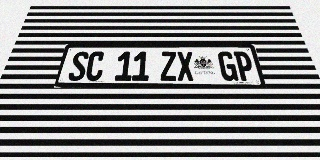1: (114, 52, 133, 81), (132, 52, 149, 81)
C: (84, 52, 106, 81)
G: (217, 52, 239, 81)
P: (233, 52, 256, 81)
S: (67, 52, 90, 81)
X: (176, 52, 194, 81)
Z: (161, 52, 177, 81)
